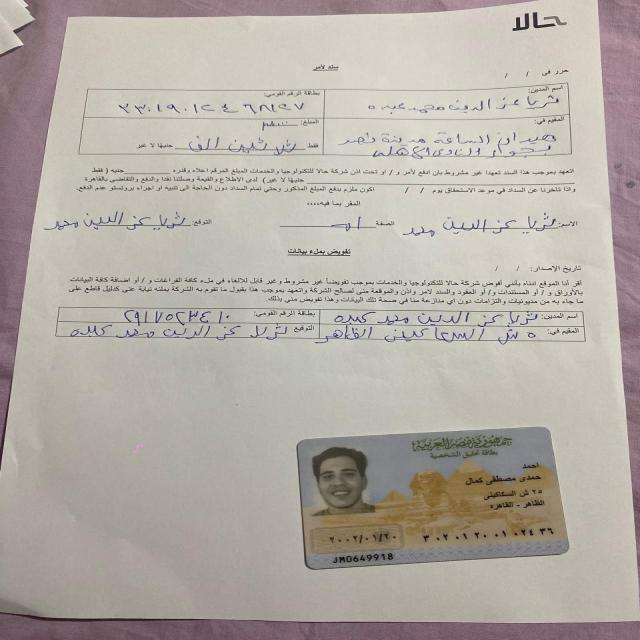ID-cards: (295, 422, 576, 573)
